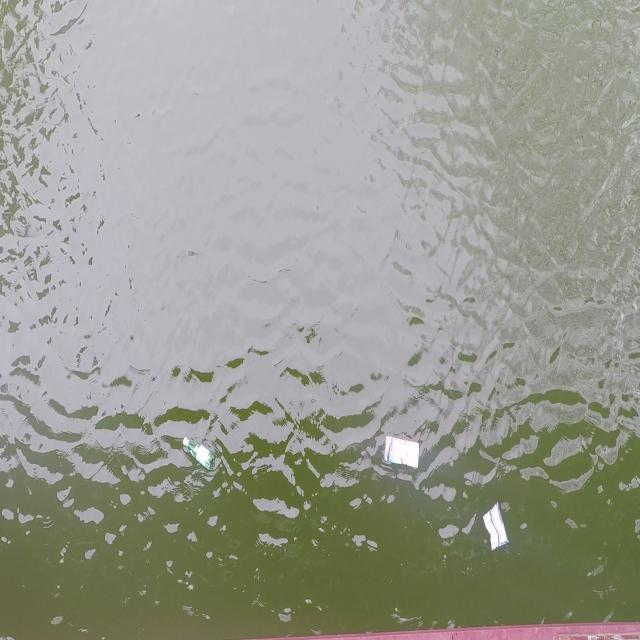Bouteille plastique: (181, 427, 218, 476)
Non plastique: (379, 435, 424, 473)
